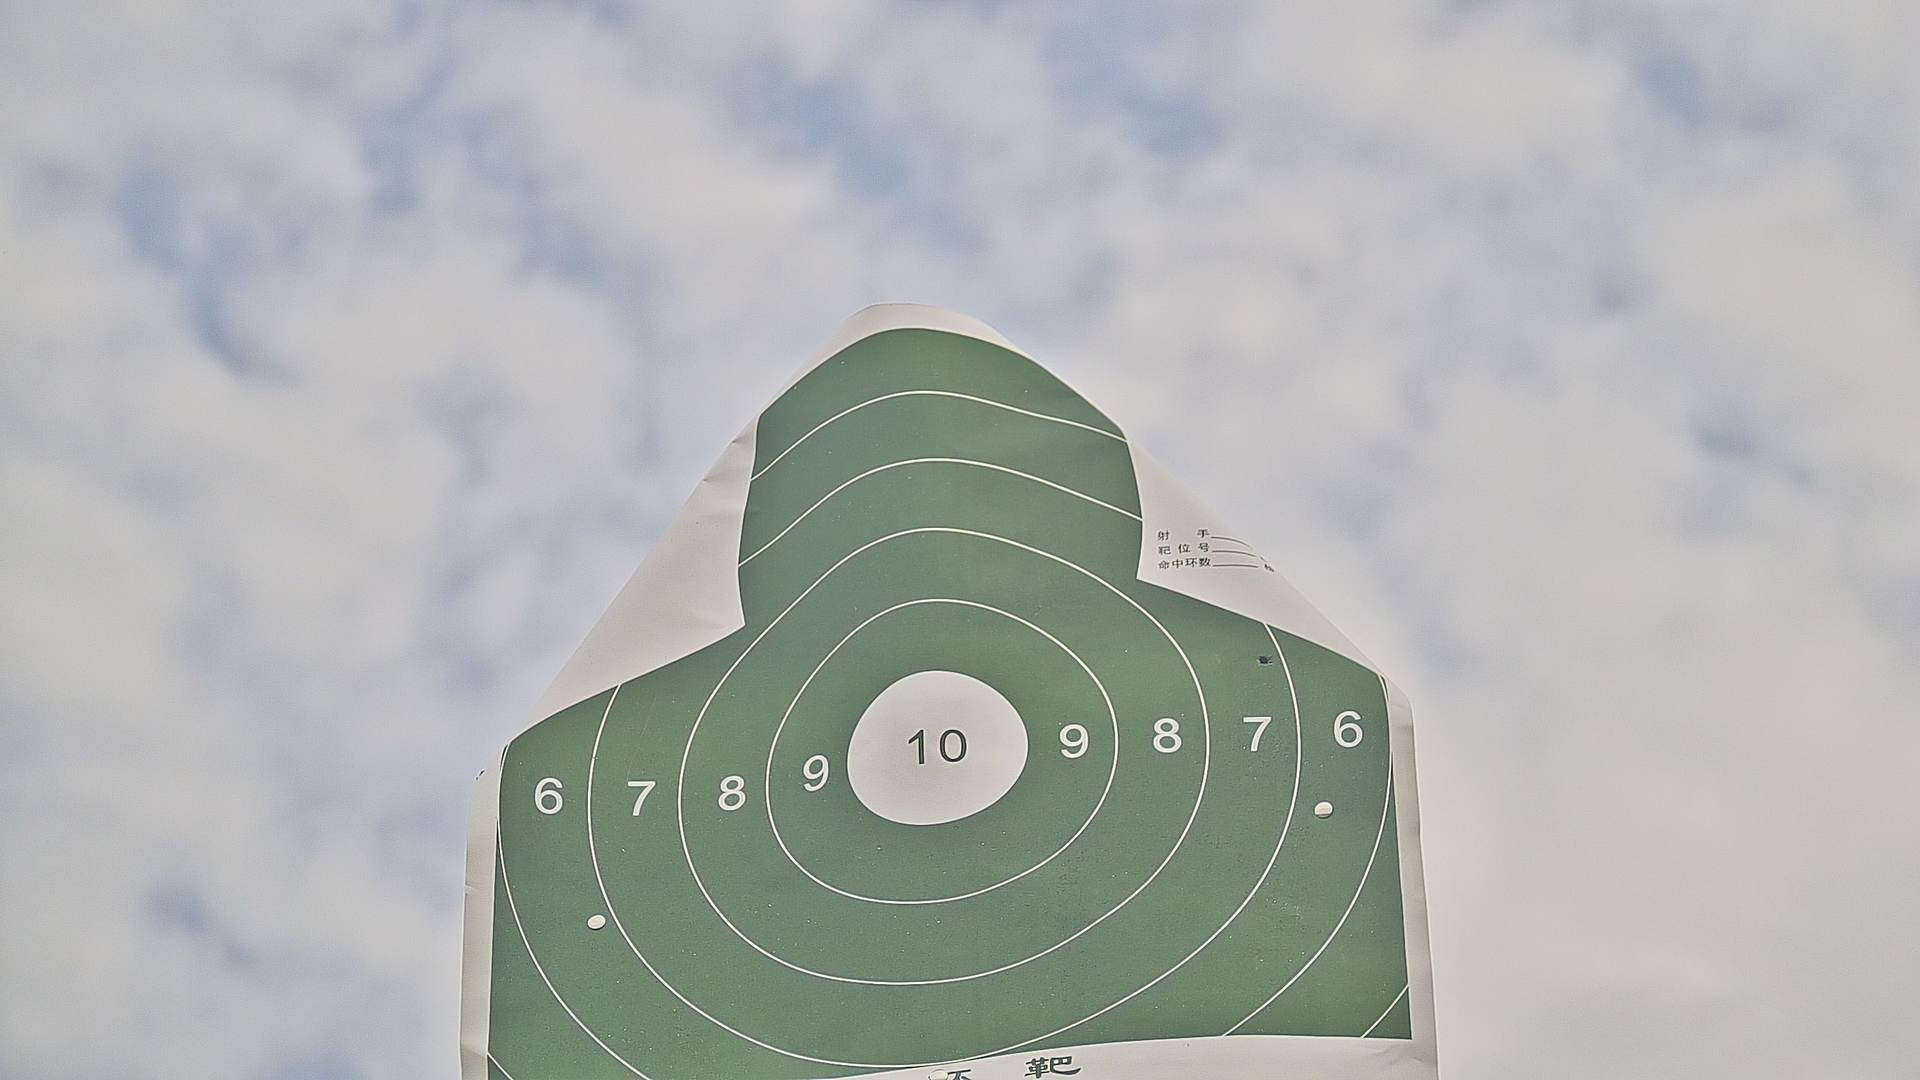hole: (1255, 650, 1269, 665)
kernel: (930, 748, 935, 750)
target: (484, 330, 1415, 1080)
ten: (844, 667, 1033, 824)
